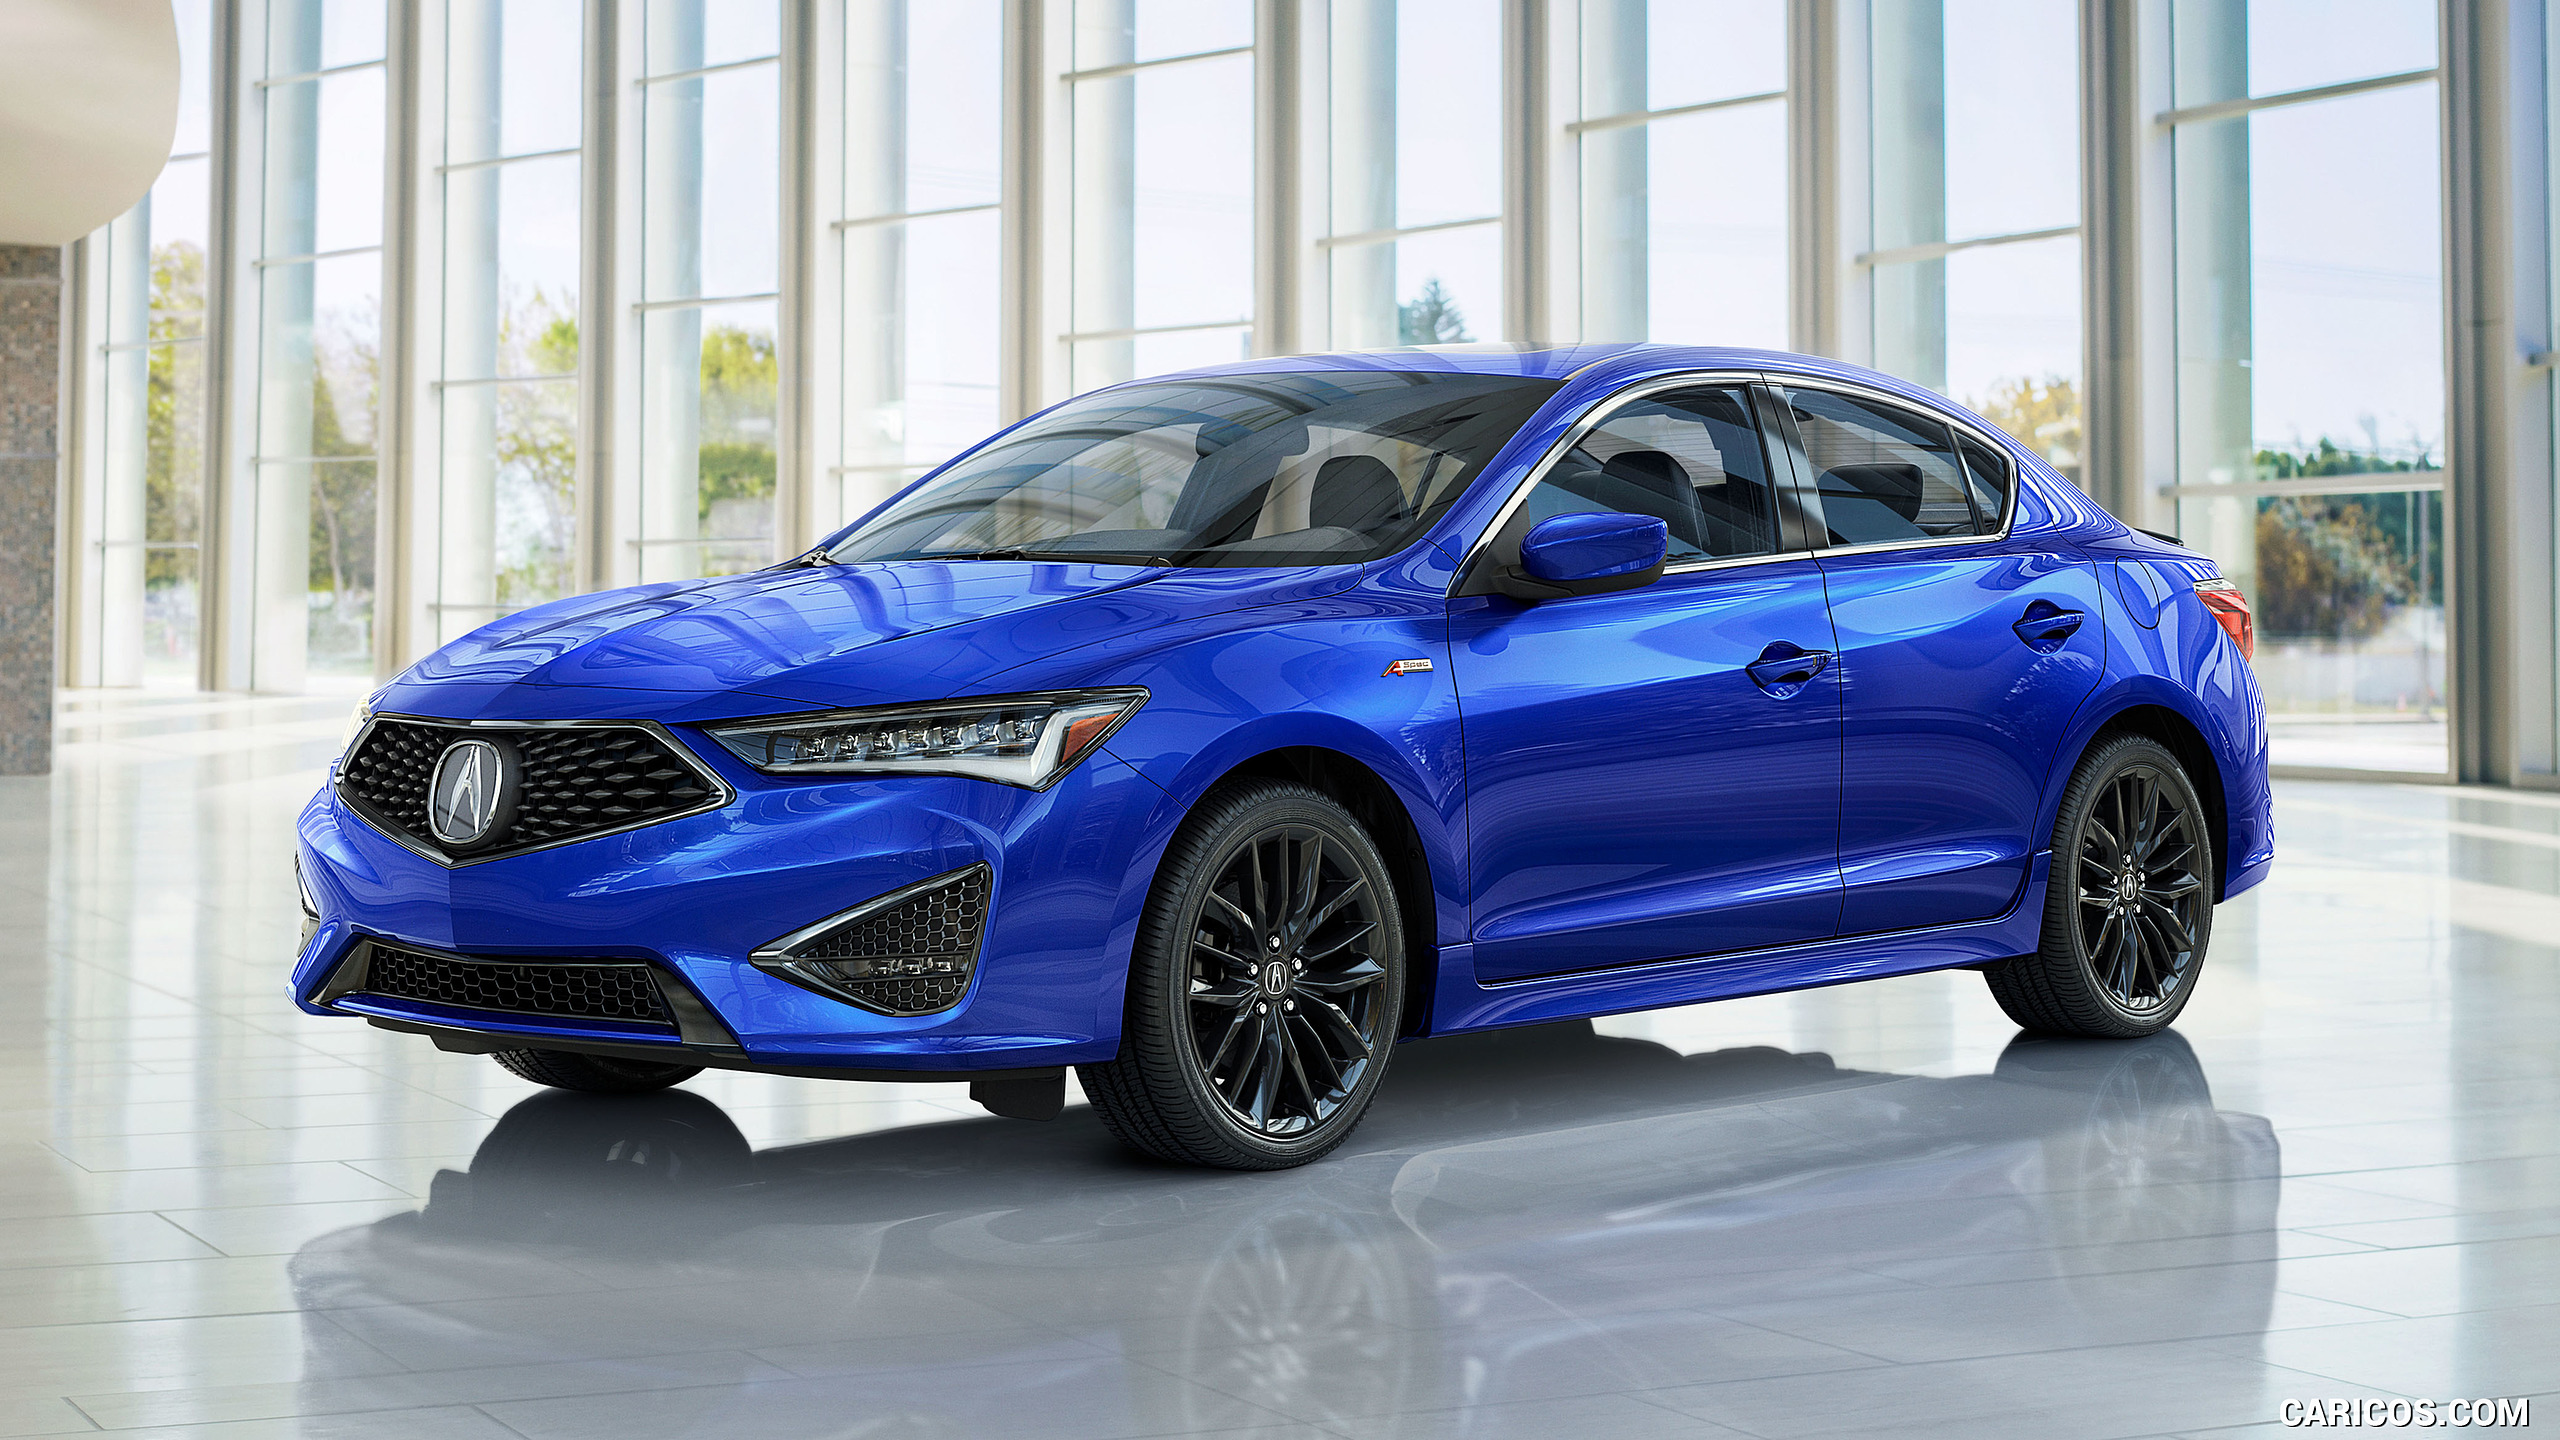Fog Lamp & Scope: (774, 897, 981, 1013)
Front: (287, 587, 1340, 1064)
Front Bumper: (292, 867, 1127, 1058)
Grill: (336, 737, 703, 855)
Headlight: (745, 695, 1131, 788)
